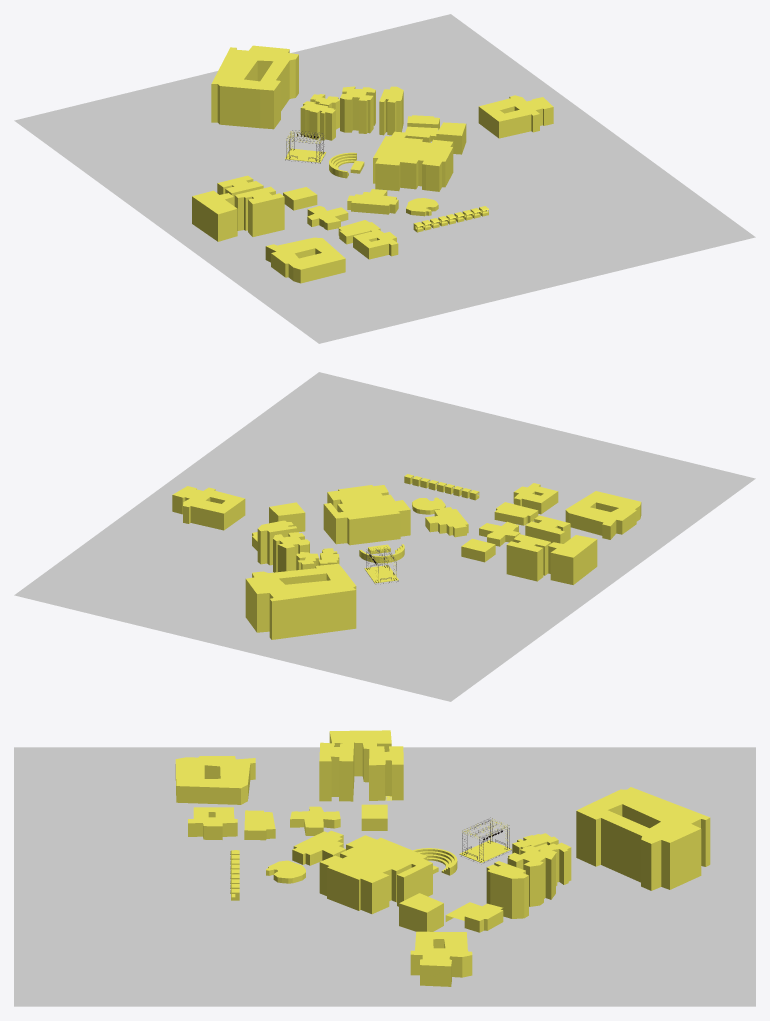
The model's file is map.glb.
3 views of the same model, one above another, from view 1: azimuth 30°, elevation 25°; view 2: azimuth 150°, elevation 25°; view 3: azimuth 270°, elevation 25° (orthographic). The views are drawn at different scales.
Visible parts, largest first — view 1: Screenshot 2024-01-14 at 10.17.30 PM, Screenshot 2024-01-13 at 12.51.41 AM.011, Screenshot 2024-01-13 at 12.51.41 AM.020, Screenshot 2024-01-13 at 12.51.41 AM.016, Screenshot 2024-01-13 at 12.51.41 AM.002, Screenshot 2024-01-13 at 12.51.41 AM.014, Screenshot 2024-01-13 at 12.51.41 AM.005, Screenshot 2024-01-13 at 12.51.41 AM.003, Screenshot 2024-01-13 at 12.51.41 AM.015, Screenshot 2024-01-13 at 12.51.41 AM.008, Screenshot 2024-01-13 at 12.51.41 AM.010, Screenshot 2024-01-13 at 12.51.41 AM.006 (+5 smaller); view 2: Screenshot 2024-01-14 at 10.17.30 PM, Screenshot 2024-01-13 at 12.51.41 AM.011, Screenshot 2024-01-13 at 12.51.41 AM.020, Screenshot 2024-01-13 at 12.51.41 AM.002, Screenshot 2024-01-13 at 12.51.41 AM.014, Screenshot 2024-01-13 at 12.51.41 AM.016, Screenshot 2024-01-13 at 12.51.41 AM.003, Screenshot 2024-01-13 at 12.51.41 AM.004, Screenshot 2024-01-13 at 12.51.41 AM.005, Screenshot 2024-01-13 at 12.51.41 AM.008, Screenshot 2024-01-13 at 12.51.41 AM.010, Screenshot 2024-01-13 at 12.51.41 AM.007 (+5 smaller); view 3: Screenshot 2024-01-14 at 10.17.30 PM, Screenshot 2024-01-13 at 12.51.41 AM.011, Screenshot 2024-01-13 at 12.51.41 AM.020, Screenshot 2024-01-13 at 12.51.41 AM.016, Screenshot 2024-01-13 at 12.51.41 AM.002, Screenshot 2024-01-13 at 12.51.41 AM.014, Screenshot 2024-01-13 at 12.51.41 AM.005, Screenshot 2024-01-13 at 12.51.41 AM.004, Screenshot 2024-01-13 at 12.51.41 AM.003, Screenshot 2024-01-13 at 12.51.41 AM.018, Screenshot 2024-01-13 at 12.51.41 AM.008, Screenshot 2024-01-13 at 12.51.41 AM.010 (+8 smaller).
Part boxes in pixels (x1=…): Screenshot 2024-01-14 at 10.17.30 PM: x1=14, y1=14, x2=755, y2=343; Screenshot 2024-01-13 at 12.51.41 AM.011: x1=211, y1=45, x2=298, y2=129; Screenshot 2024-01-13 at 12.51.41 AM.020: x1=373, y1=131, x2=453, y2=191; Screenshot 2024-01-13 at 12.51.41 AM.016: x1=340, y1=86, x2=403, y2=135; Screenshot 2024-01-13 at 12.51.41 AM.002: x1=265, y1=237, x2=345, y2=283; Screenshot 2024-01-13 at 12.51.41 AM.014: x1=478, y1=95, x2=553, y2=138; Screenshot 2024-01-13 at 12.51.41 AM.005: x1=234, y1=186, x2=284, y2=236; Screenshot 2024-01-13 at 12.51.41 AM.003: x1=192, y1=190, x2=237, y2=241; Screenshot 2024-01-13 at 12.51.41 AM.015: x1=300, y1=94, x2=339, y2=140; Screenshot 2024-01-13 at 12.51.41 AM.008: x1=353, y1=229, x2=398, y2=259; Screenshot 2024-01-13 at 12.51.41 AM.010: x1=347, y1=189, x2=398, y2=214; Screenshot 2024-01-13 at 12.51.41 AM.006: x1=307, y1=206, x2=348, y2=230; Screenshot 2024-01-14 at 10.17.30 PM: x1=14, y1=372, x2=755, y2=701; Screenshot 2024-01-13 at 12.51.41 AM.011: x1=245, y1=563, x2=356, y2=639; Screenshot 2024-01-13 at 12.51.41 AM.020: x1=323, y1=485, x2=410, y2=545; Screenshot 2024-01-13 at 12.51.41 AM.002: x1=565, y1=491, x2=641, y2=539; Screenshot 2024-01-13 at 12.51.41 AM.014: x1=172, y1=486, x2=245, y2=530; Screenshot 2024-01-13 at 12.51.41 AM.016: x1=257, y1=520, x2=309, y2=572; Screenshot 2024-01-13 at 12.51.41 AM.003: x1=548, y1=535, x2=597, y2=584; Screenshot 2024-01-13 at 12.51.41 AM.004: x1=506, y1=534, x2=550, y2=581; Screenshot 2024-01-13 at 12.51.41 AM.005: x1=525, y1=515, x2=570, y2=543; Screenshot 2024-01-13 at 12.51.41 AM.008: x1=513, y1=483, x2=558, y2=514; Screenshot 2024-01-13 at 12.51.41 AM.010: x1=425, y1=507, x2=468, y2=537; Screenshot 2024-01-13 at 12.51.41 AM.007: x1=494, y1=502, x2=538, y2=525; Screenshot 2024-01-14 at 10.17.30 PM: x1=14, y1=747, x2=755, y2=1006; Screenshot 2024-01-13 at 12.51.41 AM.011: x1=576, y1=787, x2=710, y2=890; Screenshot 2024-01-13 at 12.51.41 AM.020: x1=319, y1=835, x2=432, y2=914; Screenshot 2024-01-13 at 12.51.41 AM.016: x1=486, y1=846, x2=555, y2=918; Screenshot 2024-01-13 at 12.51.41 AM.002: x1=175, y1=756, x2=255, y2=804; Screenshot 2024-01-13 at 12.51.41 AM.014: x1=410, y1=931, x2=472, y2=986; Screenshot 2024-01-13 at 12.51.41 AM.005: x1=319, y1=740, x2=354, y2=801; Screenshot 2024-01-13 at 12.51.41 AM.004: x1=369, y1=746, x2=403, y2=800; Screenshot 2024-01-13 at 12.51.41 AM.003: x1=329, y1=730, x2=391, y2=782; Screenshot 2024-01-13 at 12.51.41 AM.018: x1=399, y1=893, x2=443, y2=931; Screenshot 2024-01-13 at 12.51.41 AM.008: x1=188, y1=807, x2=237, y2=839; Screenshot 2024-01-13 at 12.51.41 AM.010: x1=292, y1=830, x2=345, y2=865.
Size of the model in its own units: 1 by 0.0856 by 1.21.
